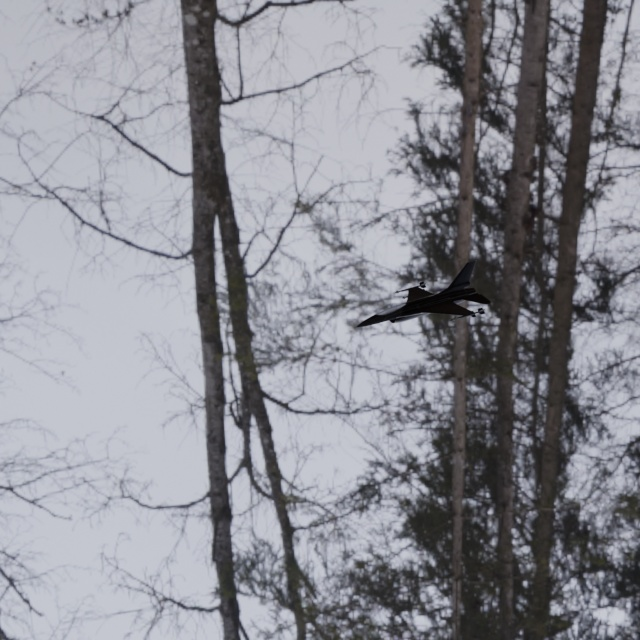model: (322, 249, 507, 351)
